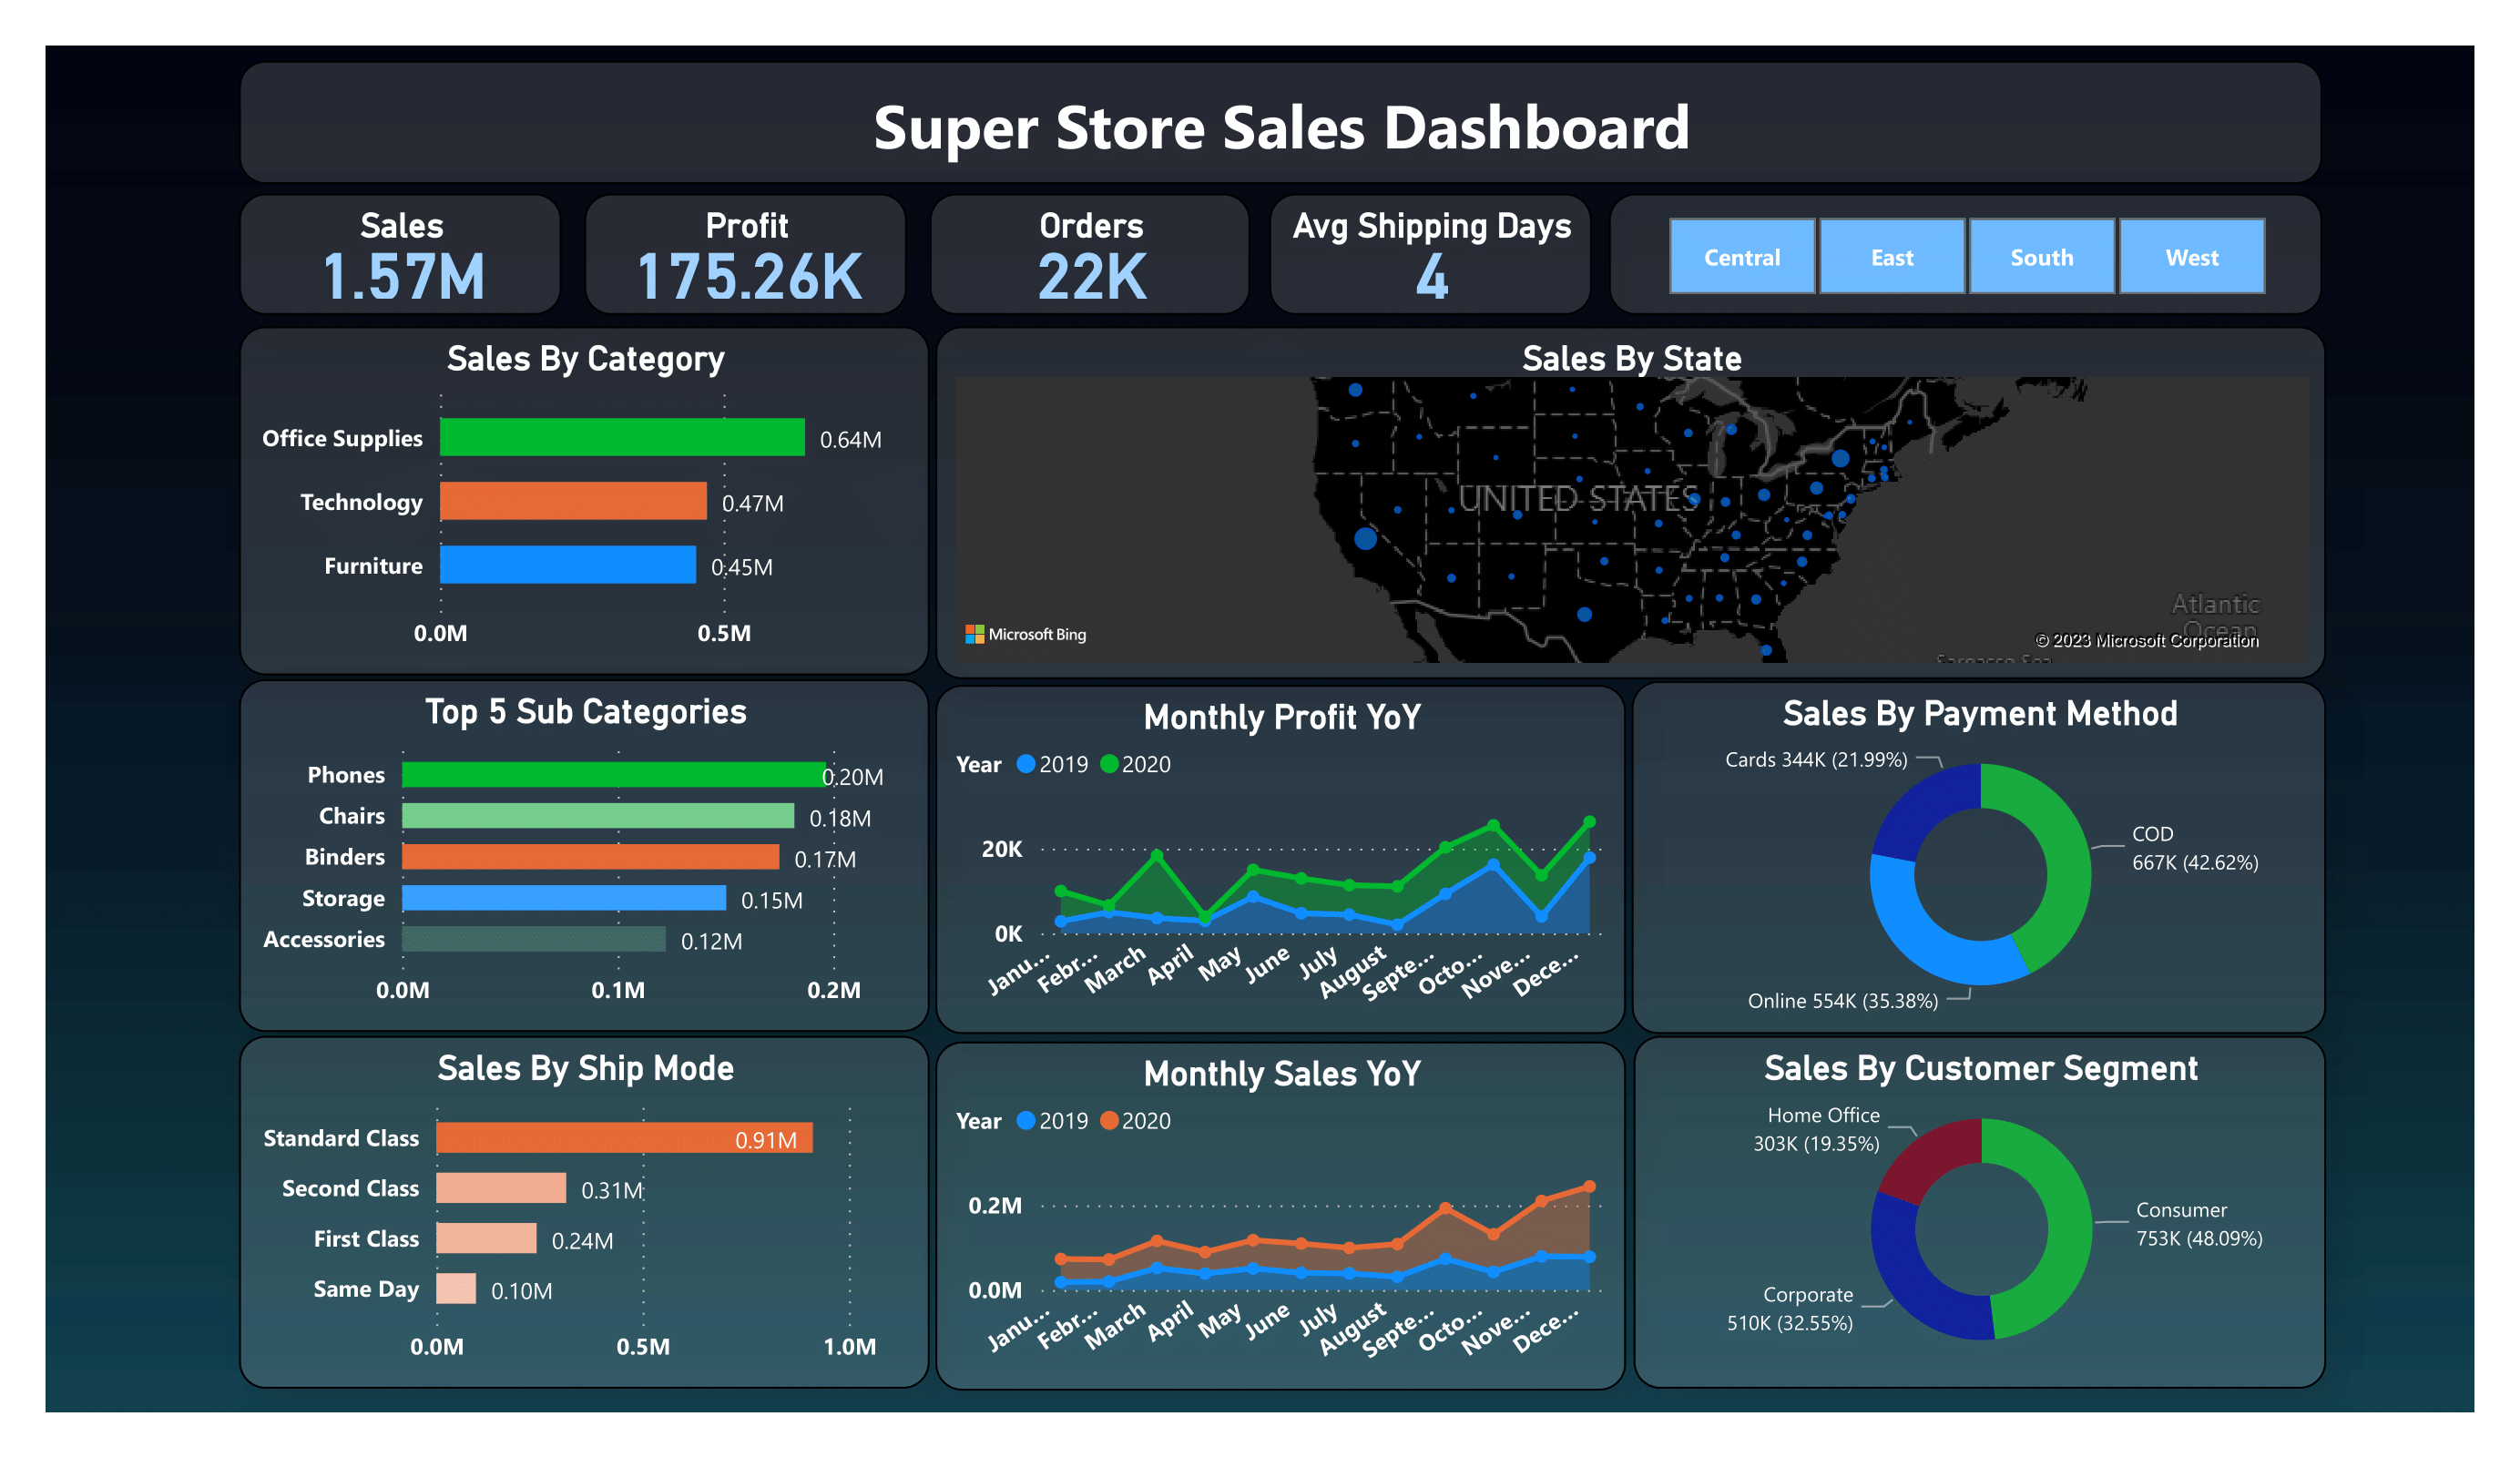

Layout of this report page (visuals, bound fields, positions):
{"tool":"powerbi","page":{"name":"Primary","canvas":[1280,720],"ordinal":0},"visuals":[{"type":"clusteredBarChart","title":"Sales By Category","fields":{"Category":["SuperStore_Sales_Dataset.Category"],"Y":["Sum(SuperStore_Sales_Dataset.Sales)"]},"box":[102,148.5,363.6,183.8],"z":0},{"type":"clusteredBarChart","title":"Top 5 Sub Categories","fields":{"Category":["SuperStore_Sales_Dataset.Sub-Category"],"Y":["Sum(SuperStore_Sales_Dataset.Sales)"]},"box":[102.4,334.2,363.9,186.1],"z":1000},{"type":"clusteredBarChart","title":"Sales By Ship Mode","fields":{"Category":["SuperStore_Sales_Dataset.Ship Mode"],"Y":["Sum(SuperStore_Sales_Dataset.Sales)"]},"box":[102.4,522.4,363.9,186.1],"z":2000},{"type":"stackedAreaChart","title":"Monthly Sales YoY","fields":{"Category":["SuperStore_Sales_Dataset.Order Date.Variation.Date Hierarchy.Month","SuperStore_Sales_Dataset.Order Date.Variation.Date Hierarchy.Day"],"Y":["Sum(SuperStore_Sales_Dataset.Sales)"],"Series":["SuperStore_Sales_Dataset.Order Date.Variation.Date Hierarchy.Year"]},"box":[468.7,525.2,364.6,183.8],"z":3000},{"type":"stackedAreaChart","title":"Monthly Profit YoY","fields":{"Category":["SuperStore_Sales_Dataset.Order Date.Variation.Date Hierarchy.Month","SuperStore_Sales_Dataset.Order Date.Variation.Date Hierarchy.Day"],"Series":["SuperStore_Sales_Dataset.Order Date.Variation.Date Hierarchy.Year"],"Y":["Sum(SuperStore_Sales_Dataset.Profit)"]},"box":[468.7,337.4,364.6,183.8],"z":4000},{"type":"map","title":"Sales By State","fields":{"Category":["SuperStore_Sales_Dataset.State"],"Size":["Sum(SuperStore_Sales_Dataset.Sales)"]},"box":[468.7,148.5,733.3,185.9],"z":5000},{"type":"donutChart","title":"Sales By Customer Segment","fields":{"Category":["SuperStore_Sales_Dataset.Segment"],"Y":["Sum(SuperStore_Sales_Dataset.Sales)"]},"box":[837.4,522.2,365,186],"z":6000},{"type":"donutChart","title":"Sales By Payment Method","fields":{"Category":["SuperStore_Sales_Dataset.Payment Mode"],"Y":["Sum(SuperStore_Sales_Dataset.Sales)"]},"box":[836.4,335.4,365.7,185.9],"z":7000},{"type":"slicer","fields":{"Values":["SuperStore_Sales_Dataset.Region"]},"box":[824.2,77.8,375.8,64.6],"z":8000},{"type":"textbox","box":[102,8.1,1098,64.6],"z":9000},{"type":"card","title":"Sales","fields":{"Values":["Sum(SuperStore_Sales_Dataset.Sales)"]},"box":[102,77.8,169.7,64.6],"z":10000},{"type":"card","title":"Profit","fields":{"Values":["Sum(SuperStore_Sales_Dataset.Profit)"]},"box":[283.8,77.8,169.7,64.6],"z":11000},{"type":"card","title":"Orders","fields":{"Values":["Sum(SuperStore_Sales_Dataset.Quantity)"]},"box":[465.7,77.8,169.7,64.6],"z":12000},{"type":"card","title":"Avg Shipping Days","fields":{"Values":["Avg(SuperStore_Sales_Dataset.AvgDelivery)"]},"box":[645.5,77.8,169.7,64.6],"z":13000}]}

Visuals, with their boxes in screenshot pixels (x1, y1, x2, y2):
"Sales By Category" clusteredBarChart: {"x1": 240, "y1": 327, "x2": 929, "y2": 676}
"Top 5 Sub Categories" clusteredBarChart: {"x1": 240, "y1": 679, "x2": 931, "y2": 1033}
"Sales By Ship Mode" clusteredBarChart: {"x1": 240, "y1": 1036, "x2": 931, "y2": 1390}
"Monthly Sales YoY" stackedAreaChart: {"x1": 935, "y1": 1042, "x2": 1627, "y2": 1391}
"Monthly Profit YoY" stackedAreaChart: {"x1": 935, "y1": 686, "x2": 1627, "y2": 1034}
"Sales By State" map: {"x1": 935, "y1": 327, "x2": 2326, "y2": 680}
"Sales By Customer Segment" donutChart: {"x1": 1635, "y1": 1036, "x2": 2327, "y2": 1389}
"Sales By Payment Method" donutChart: {"x1": 1633, "y1": 682, "x2": 2327, "y2": 1034}
slicer - SuperStore_Sales_Dataset.Region: {"x1": 1609, "y1": 193, "x2": 2322, "y2": 316}
textbox: {"x1": 240, "y1": 61, "x2": 2322, "y2": 183}
"Sales" card: {"x1": 240, "y1": 193, "x2": 561, "y2": 316}
"Profit" card: {"x1": 584, "y1": 193, "x2": 906, "y2": 316}
"Orders" card: {"x1": 929, "y1": 193, "x2": 1251, "y2": 316}
"Avg Shipping Days" card: {"x1": 1270, "y1": 193, "x2": 1593, "y2": 316}
